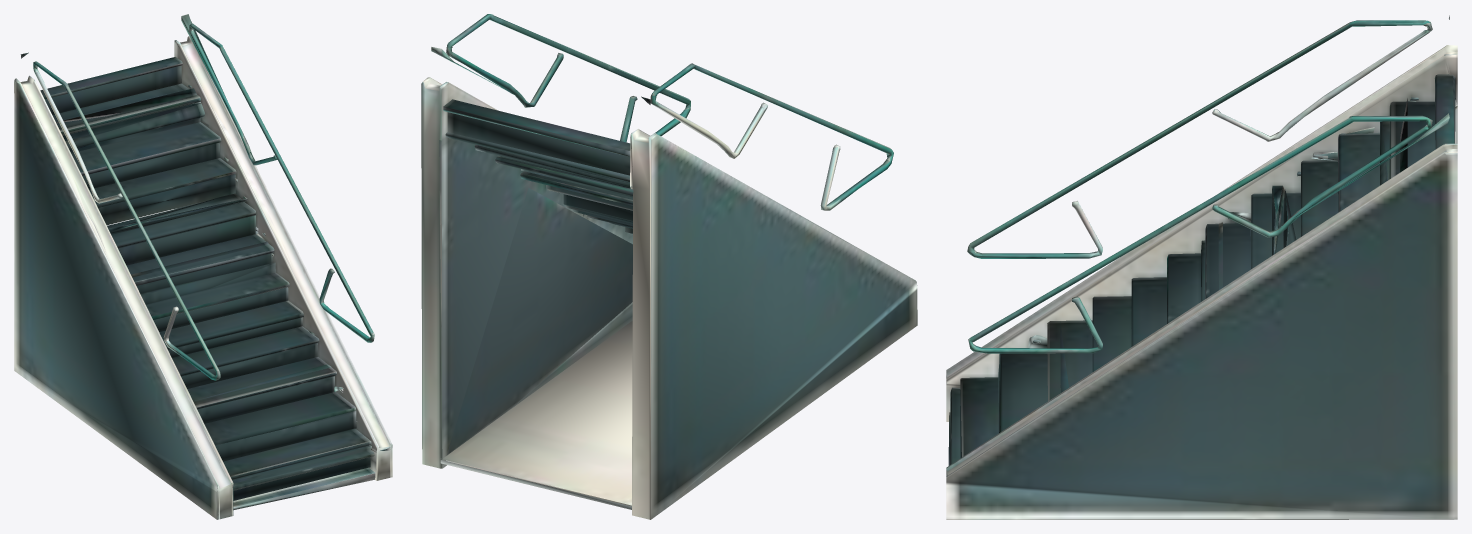
File: stairs.lod1.glb
The picture shows the model from 3 angles, left to right: view 1: azimuth 30°, elevation 25°; view 2: azimuth 150°, elevation 25°; view 3: azimuth 270°, elevation 25°; orthographic projection. The views are drawn at different scales.
Bounding box in the file's own units: 2 × 3.45 × 4.
1 material, 1 textured.
